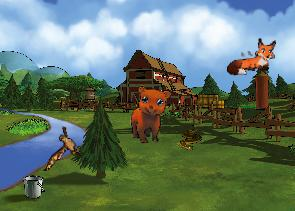bear: (130, 85, 172, 144)
eagle: (43, 124, 83, 174)
fox: (224, 36, 279, 77)
